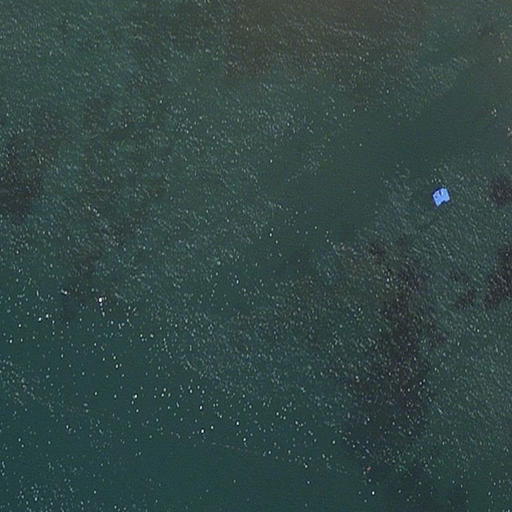ship: (430, 186, 449, 206)
